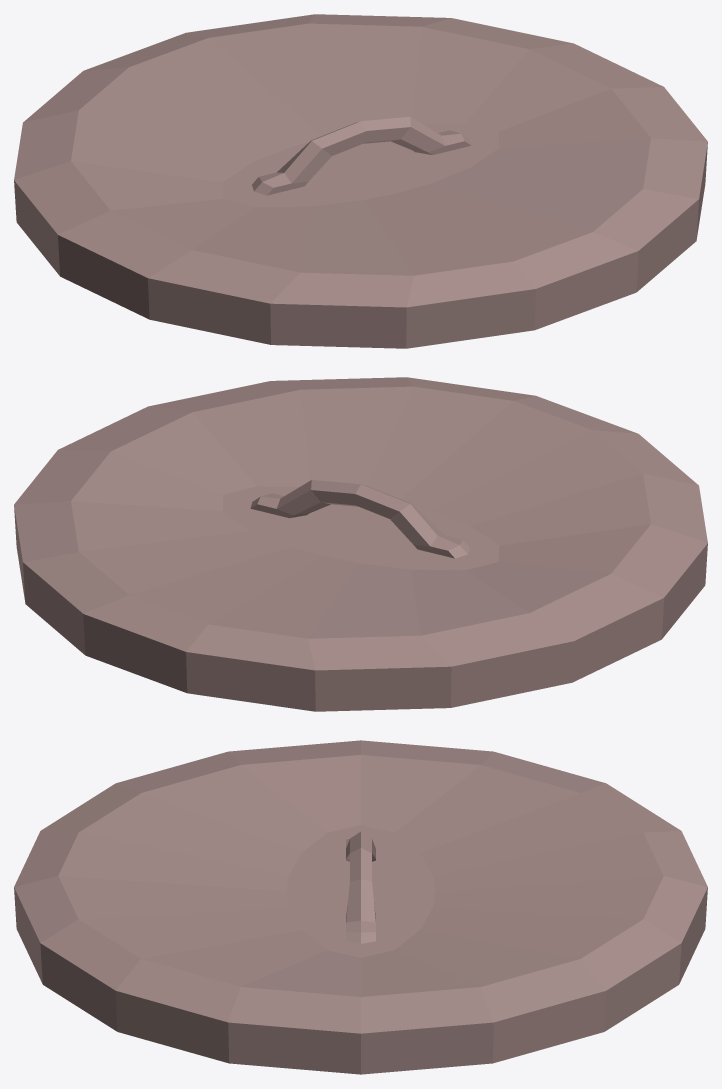
The model's file is Trashcan-lid.glb.
3 renders of one model, top to bottom at view 1: azimuth 30°, elevation 25°; view 2: azimuth 150°, elevation 25°; view 3: azimuth 270°, elevation 25°, orthographic.
Visible parts, largest first — view 1: Lid; view 2: Lid; view 3: Lid.
Part boxes in pixels (x1=…): Lid: x1=14, y1=14, x2=707, y2=348; Lid: x1=14, y1=377, x2=707, y2=711; Lid: x1=14, y1=740, x2=707, y2=1074.
Bounding box in the file's own units: 0.683 × 0.0883 × 0.683.
